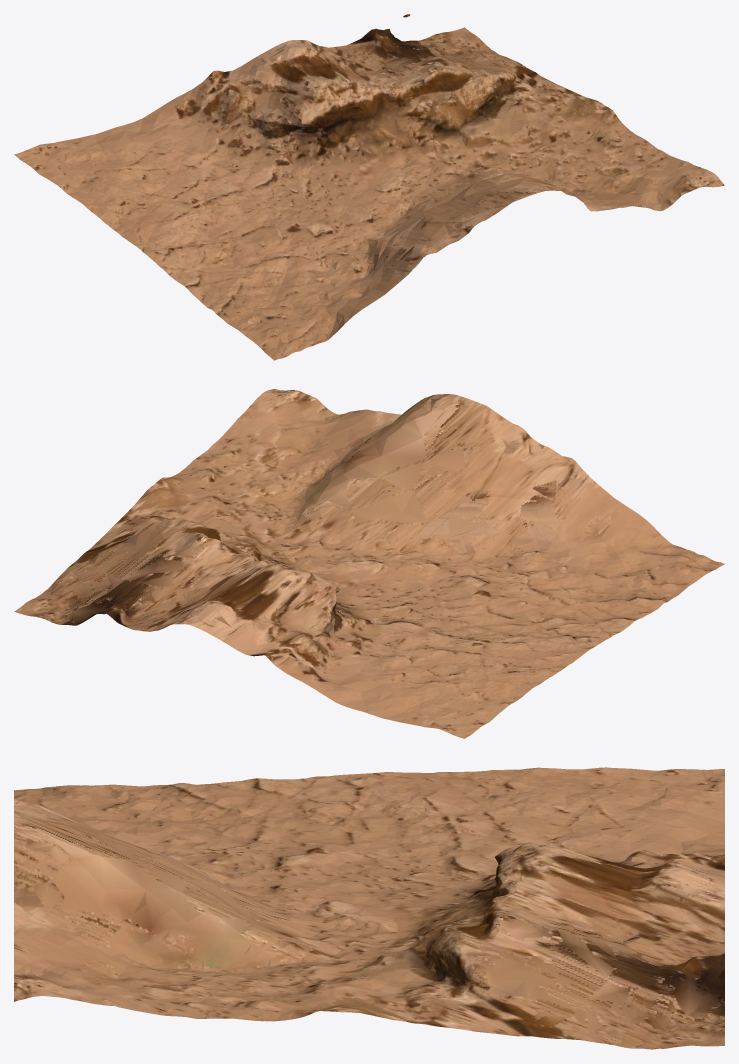
3 views of the same model, one above another, from view 1: azimuth 30°, elevation 25°; view 2: azimuth 150°, elevation 25°; view 3: azimuth 270°, elevation 25° (orthographic). The views are drawn at different scales.
Size of the model in its own units: 1.04 by 0.2294 by 1.04.
3 materials, 3 textured.
